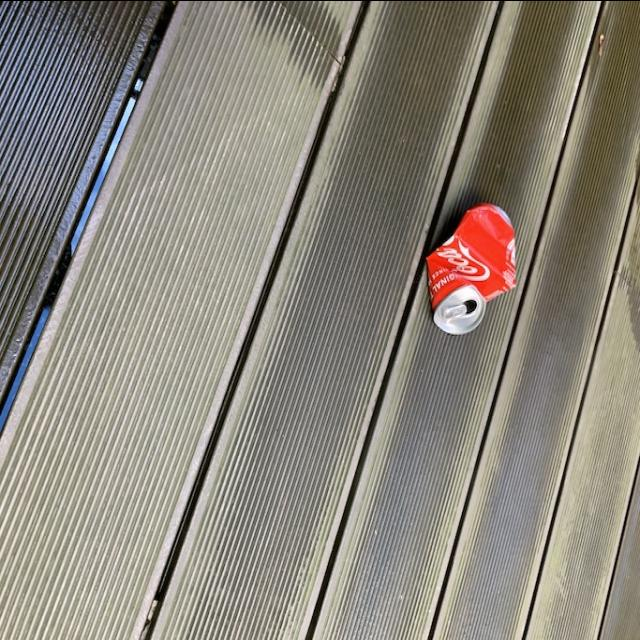Aluminum Can: (428, 200, 520, 338)
